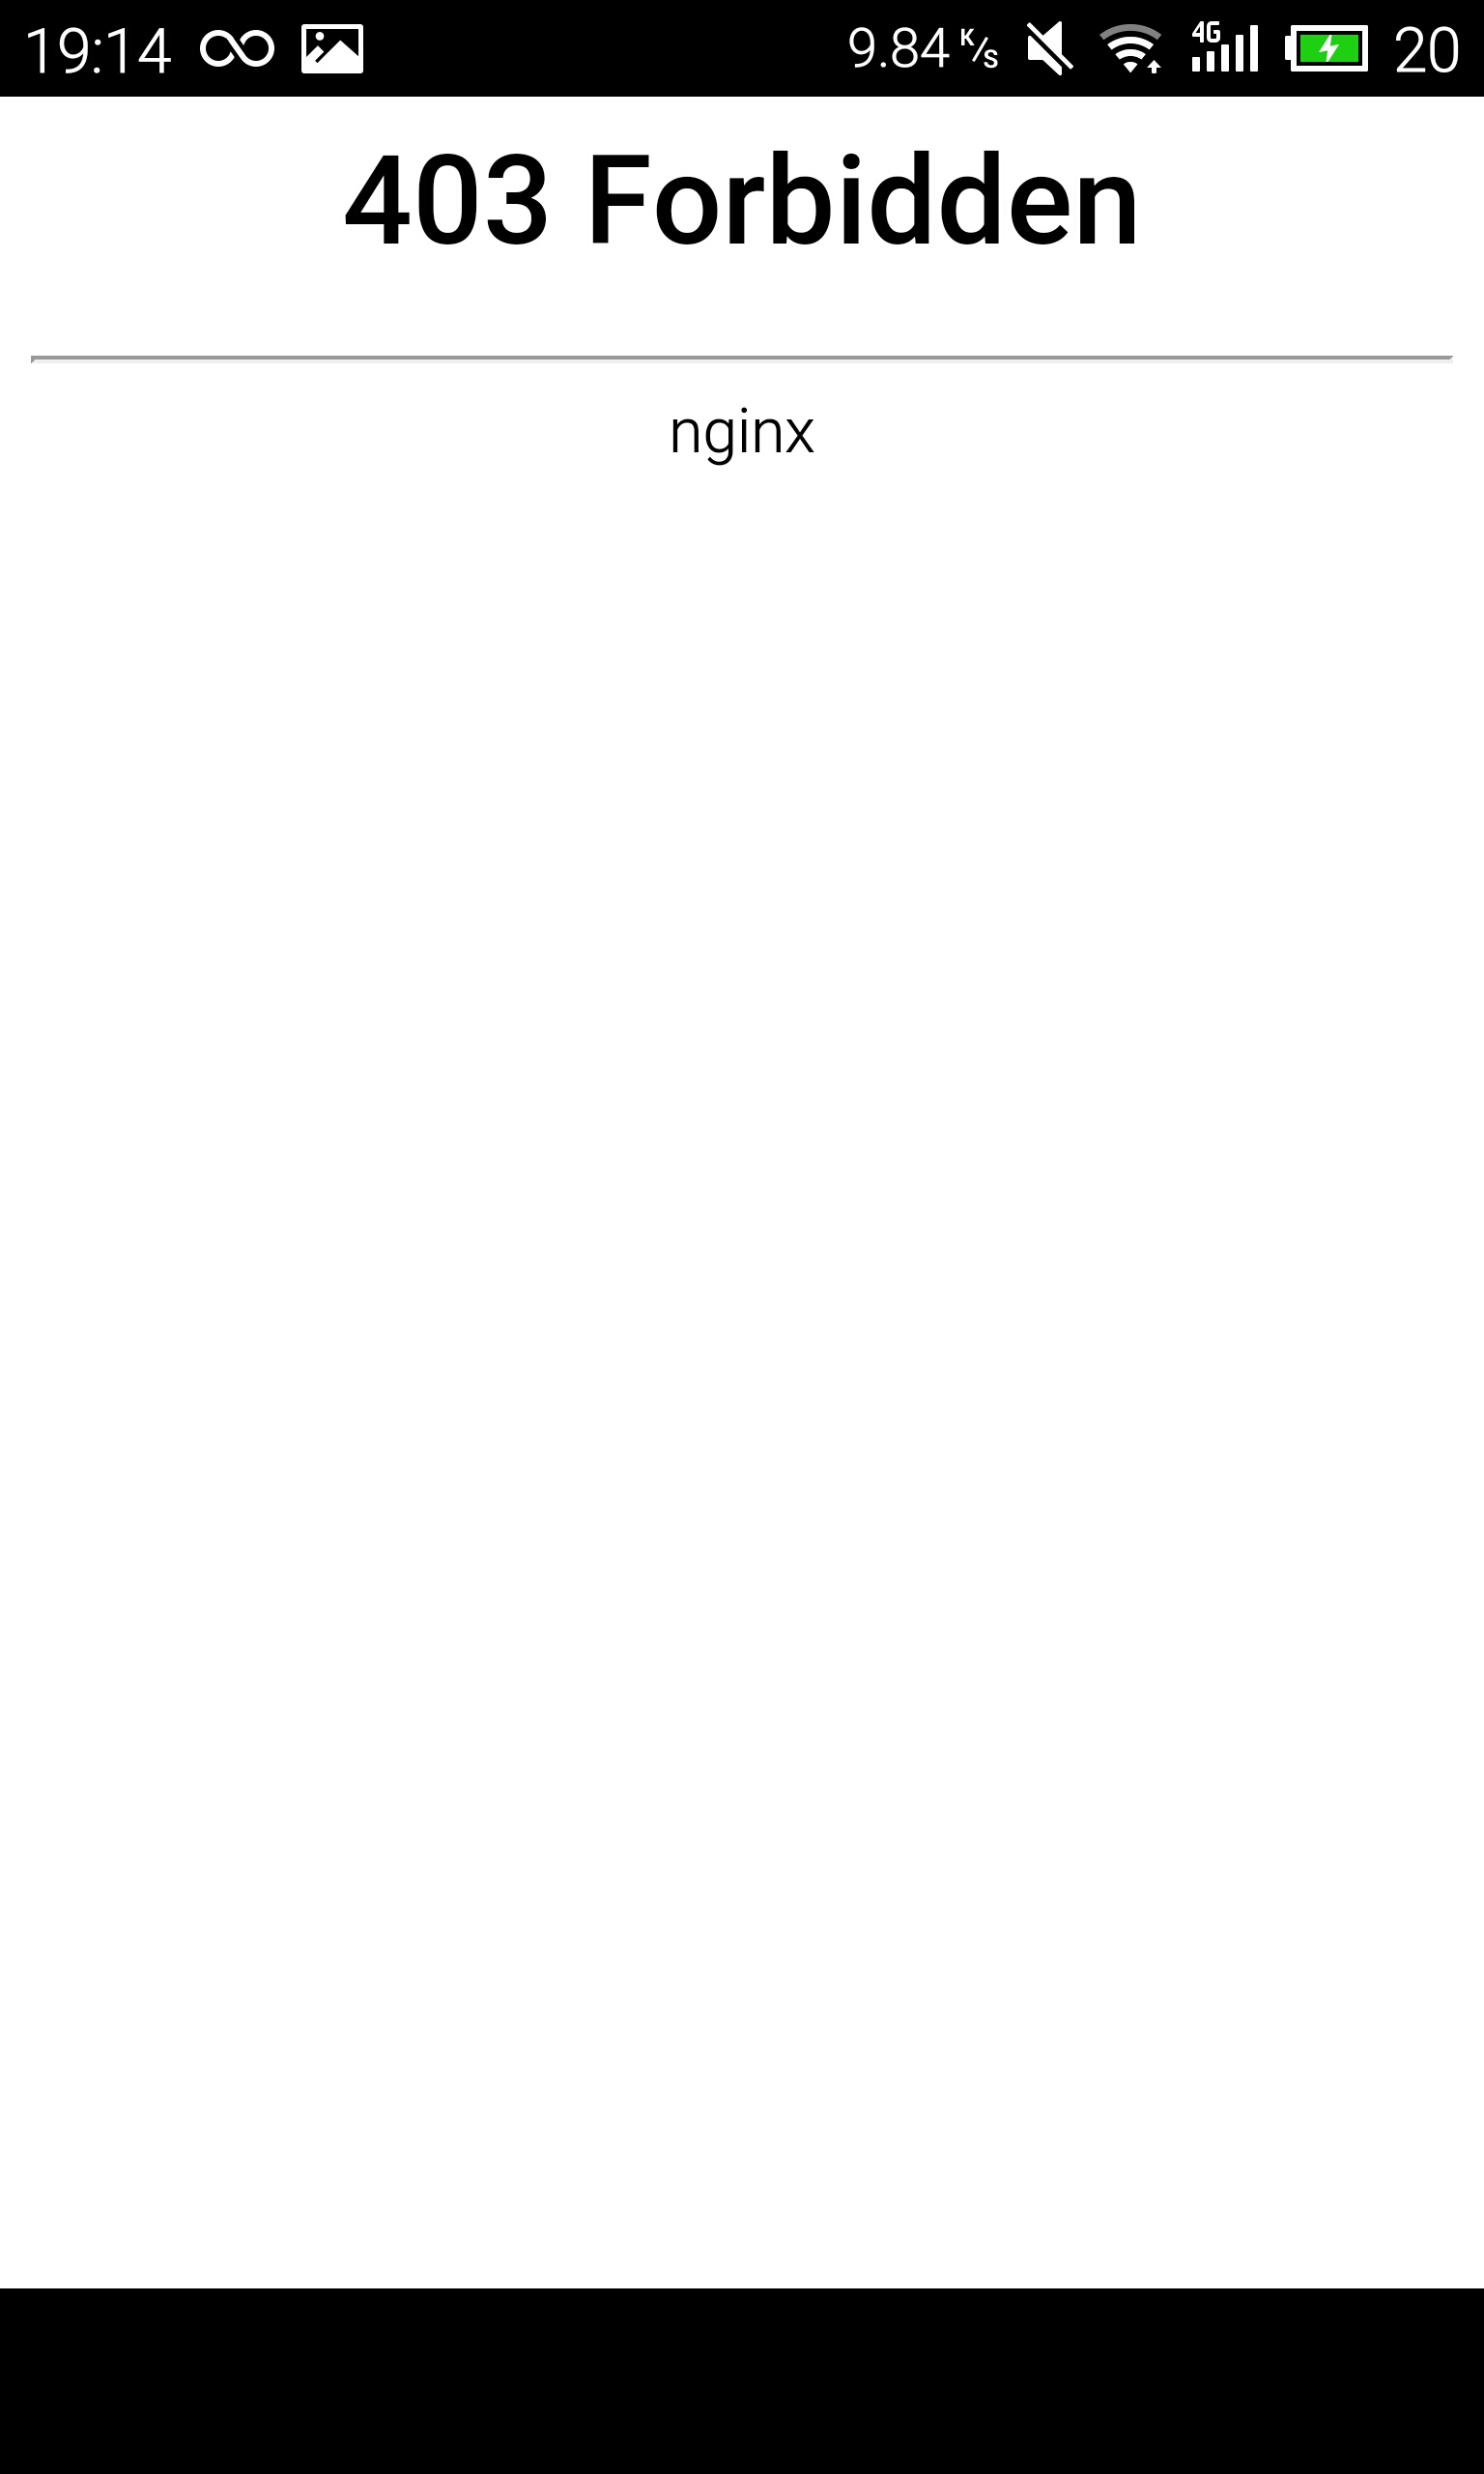textview: (35, 110, 1472, 475)
